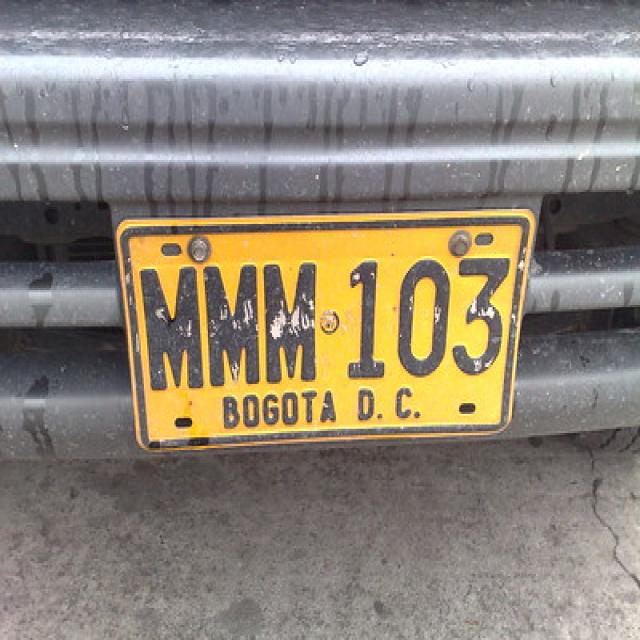placa_carro: (92, 202, 558, 462)
